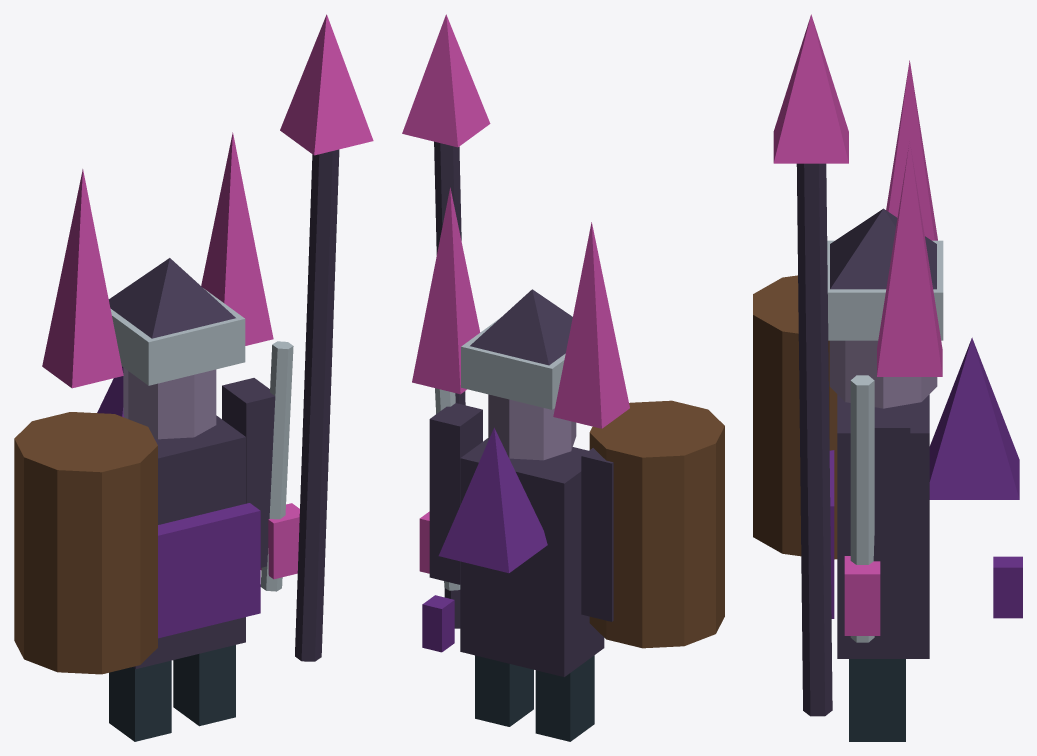
File: stone-spearman.obj
3 renders of one model, left to right at view 1: azimuth 30°, elevation 25°; view 2: azimuth 150°, elevation 25°; view 3: azimuth 270°, elevation 25°, orthographic. The views are drawn at different scales.
Visible parts, largest first — view 1: infantry; view 2: infantry; view 3: infantry.
Boxes of the visible parts, x1,y1,x2,y2 form: infantry: (14,14,373,741); infantry: (402,14,724,741); infantry: (753,14,1022,741).
Bounding box in the file's own units: 1.25 × 2.58 × 0.8225.
